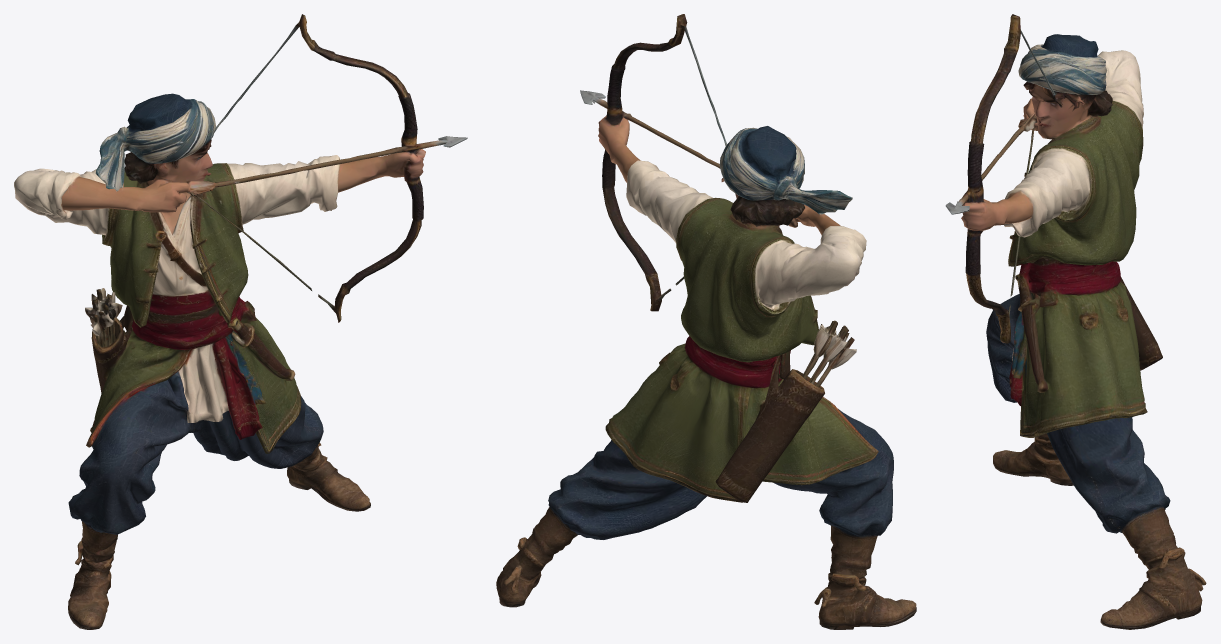
Rendered from deniz-azabi-1520-1600-tripo-v1.glb.
3 views of the same model, side by side, from view 1: azimuth 30°, elevation 25°; view 2: azimuth 150°, elevation 25°; view 3: azimuth 270°, elevation 25° (orthographic).
Visible parts, largest first — view 1: tripo_node_c124d65f-6e3c-4122-bcc3-a7dd50ceaccb; view 2: tripo_node_c124d65f-6e3c-4122-bcc3-a7dd50ceaccb; view 3: tripo_node_c124d65f-6e3c-4122-bcc3-a7dd50ceaccb.
Boxes of the visible parts, x1,y1,x2,y2 form: tripo_node_c124d65f-6e3c-4122-bcc3-a7dd50ceaccb: (14,14,467,629); tripo_node_c124d65f-6e3c-4122-bcc3-a7dd50ceaccb: (496,14,916,629); tripo_node_c124d65f-6e3c-4122-bcc3-a7dd50ceaccb: (945,14,1206,629).
Bounding box in the file's own units: 0.6913 × 1 × 0.4229.
1 material, 1 textured.
